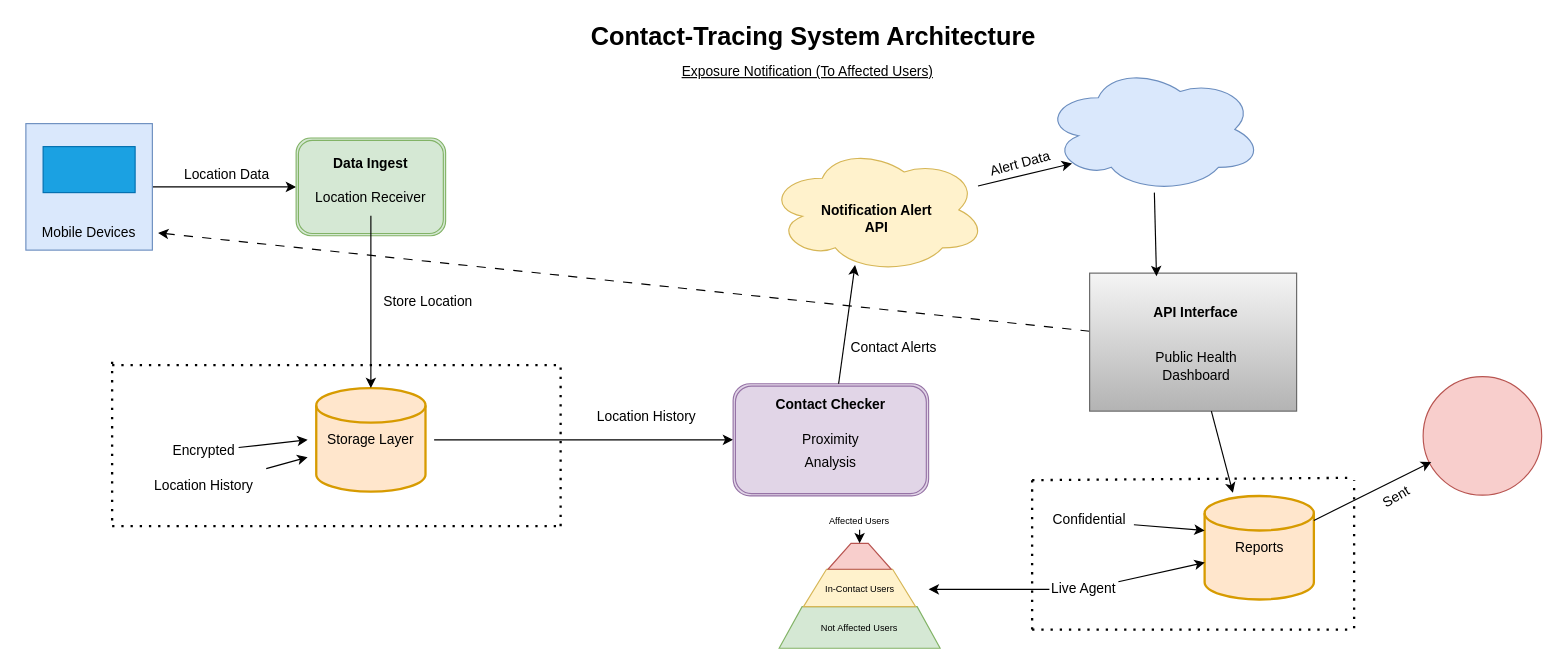
Some shapes in this 1562 by 668 pixel diagram are drawn without their labels. The shapes that lost their labels are listed below. From the top down, each one's box as (x1, y1, x2, y2) in pixels, then its label:
(1042, 65, 1262, 193): AWS Health API
(1422, 375, 1542, 495): Health Authority
